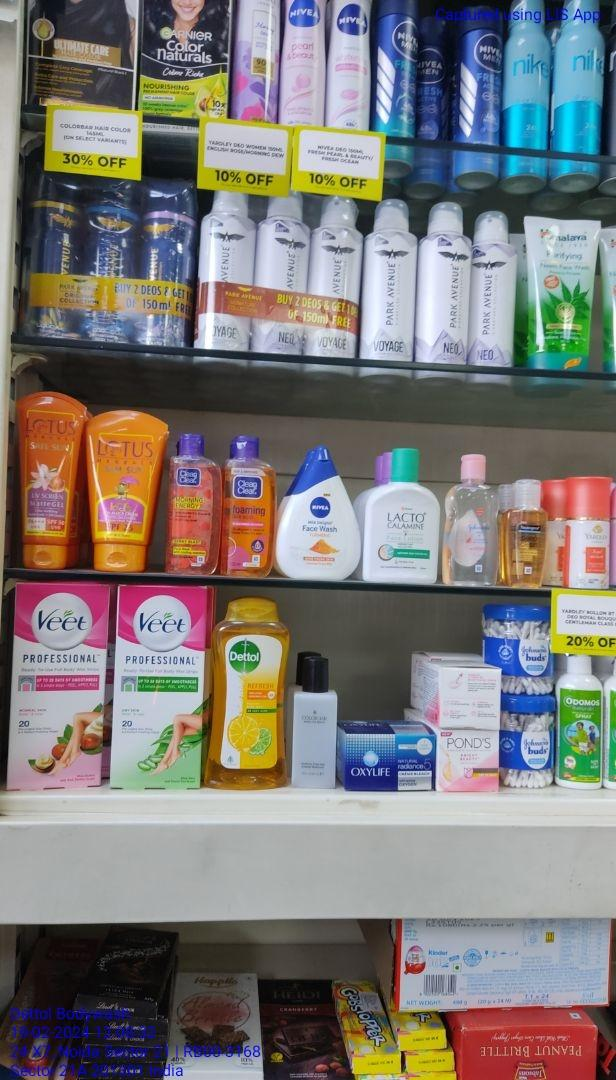Dettol_Bodywash_Refresh: (212, 597, 289, 789)
